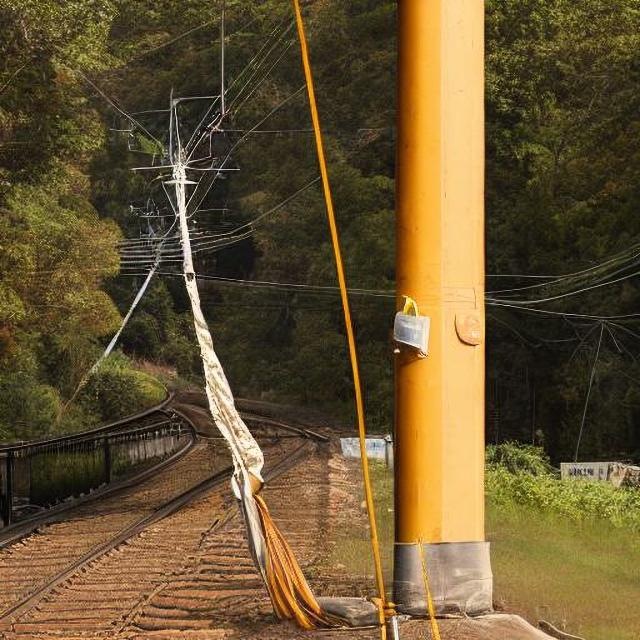floating object: (395, 307, 428, 354), (451, 312, 481, 348)
